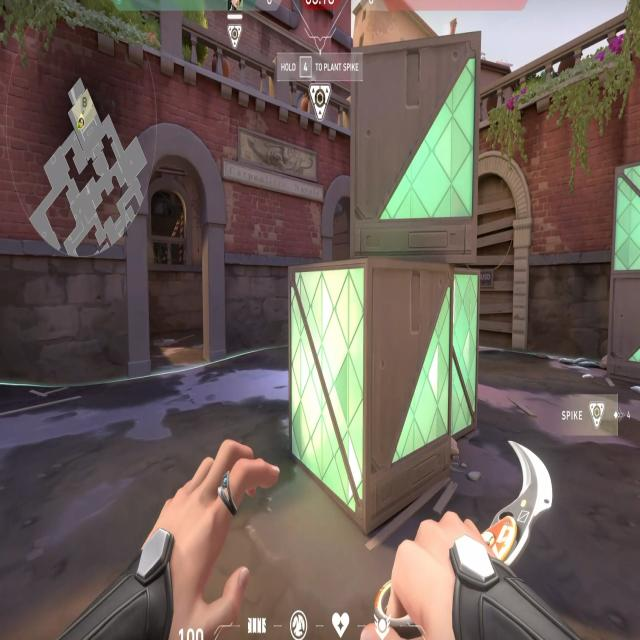B_Boathouse: (122, 116, 230, 376)
B_Site_Box: (286, 44, 490, 492)
